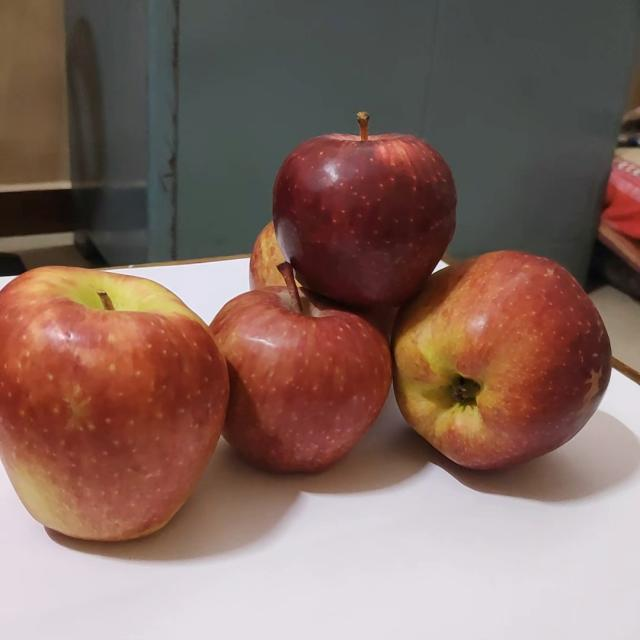apple: (2, 260, 228, 546), (392, 240, 617, 482), (203, 260, 396, 477), (268, 102, 466, 309), (245, 214, 324, 302)
